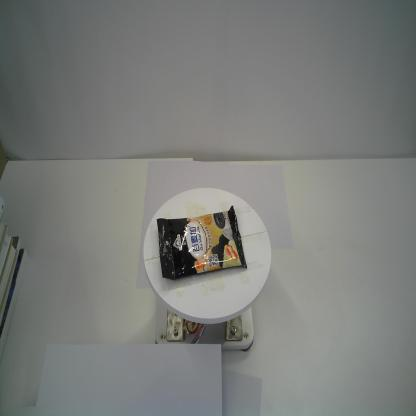Instant Drink: (156, 205, 248, 280)
